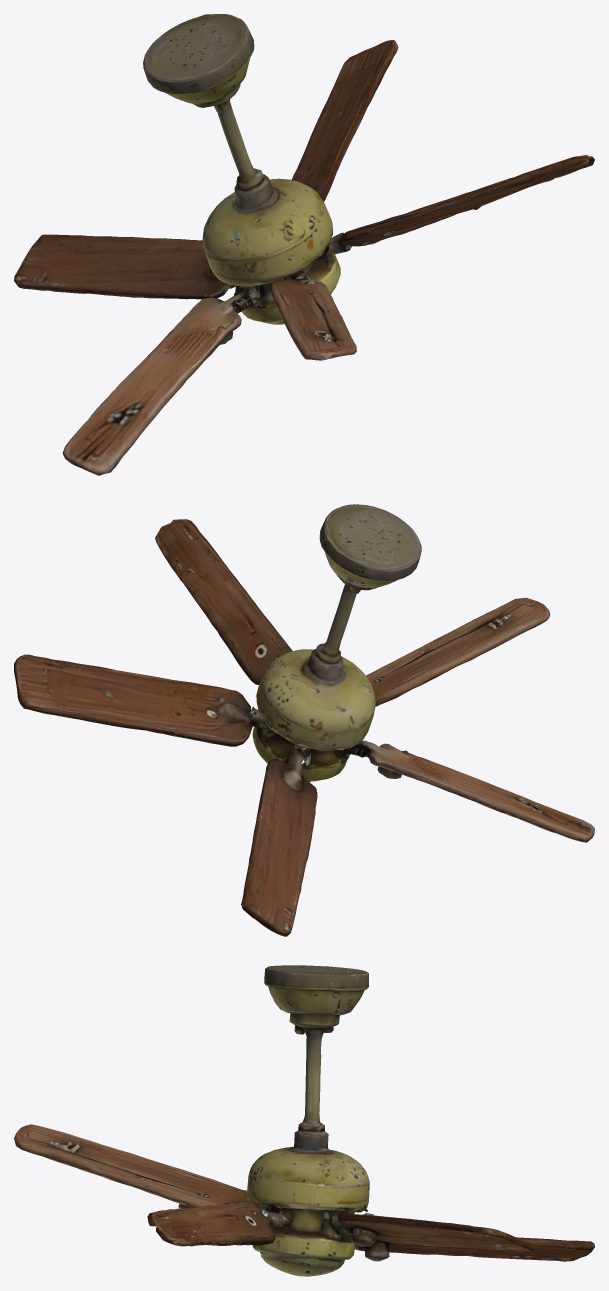
The model's file is de_ceilfan.glb.
3 renders of one model, top to bottom at view 1: azimuth 30°, elevation 25°; view 2: azimuth 150°, elevation 25°; view 3: azimuth 270°, elevation 25°, orthographic. The views are drawn at different scales.
Parts seen in each view (by area): view 1: tripo_node_05ff8c42-41c7-4ca4-a131-2c70ffa6d6e3; view 2: tripo_node_05ff8c42-41c7-4ca4-a131-2c70ffa6d6e3; view 3: tripo_node_05ff8c42-41c7-4ca4-a131-2c70ffa6d6e3.
Part boxes in pixels (left/top/right/bottom): tripo_node_05ff8c42-41c7-4ca4-a131-2c70ffa6d6e3: left=14, top=14, right=594, bottom=475; tripo_node_05ff8c42-41c7-4ca4-a131-2c70ffa6d6e3: left=14, top=504, right=594, bottom=936; tripo_node_05ff8c42-41c7-4ca4-a131-2c70ffa6d6e3: left=14, top=965, right=594, bottom=1276.
Size of the model in its own units: 0.9321 by 0.63 by 1.
1 material, 1 textured.
